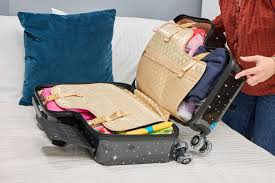suitcase: (31, 13, 251, 168)
